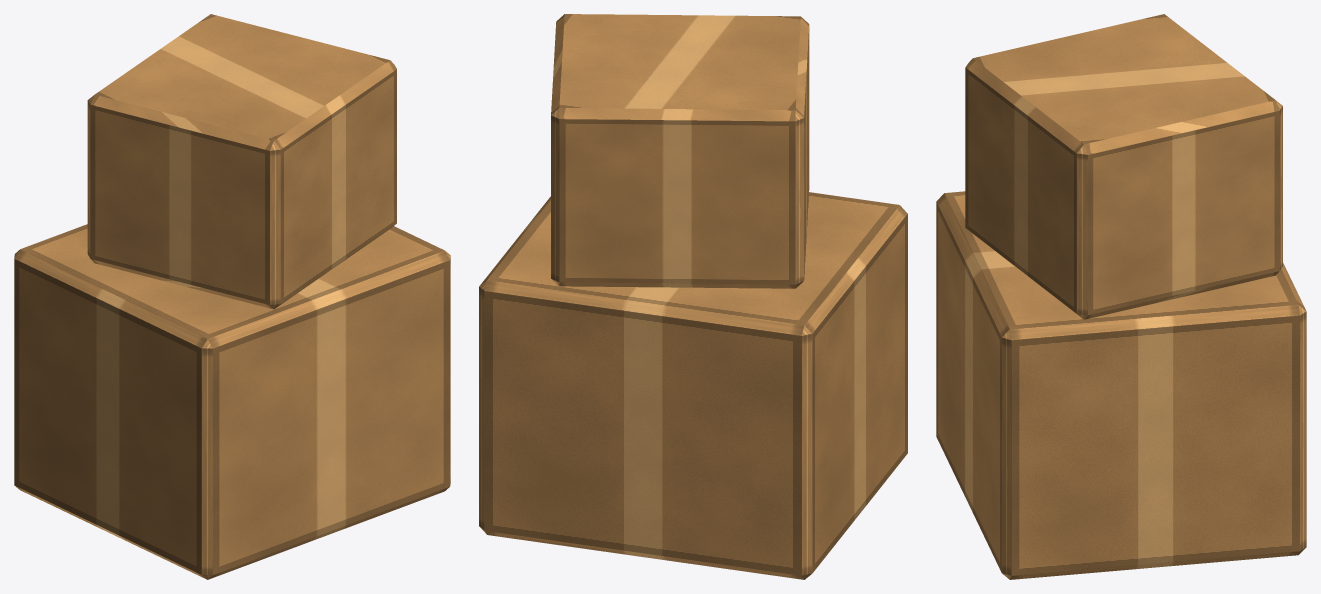
File: Prop_Cardboard_In.fbx
3 views of the same model, side by side, from view 1: azimuth 30°, elevation 25°; view 2: azimuth 150°, elevation 25°; view 3: azimuth 270°, elevation 25° (orthographic). The views are drawn at different scales.
Parts seen in each view (by area): view 1: Prop_Cardboard_In; view 2: Prop_Cardboard_In; view 3: Prop_Cardboard_In.
Boxes of the visible parts, x1,y1,x2,y2 form: Prop_Cardboard_In: (14, 14, 450, 579); Prop_Cardboard_In: (479, 14, 907, 579); Prop_Cardboard_In: (936, 14, 1306, 579).
Size of the model in its own units: 0.5747 by 0.68 by 0.5356.
1 material, 1 textured.
